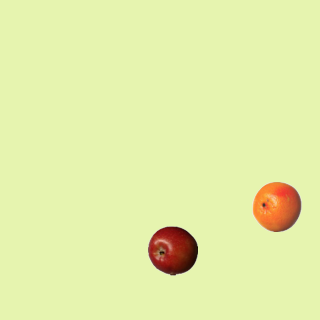Apple Braeburn: (147, 225, 197, 275)
Grapefruit Pink: (251, 181, 301, 231)
